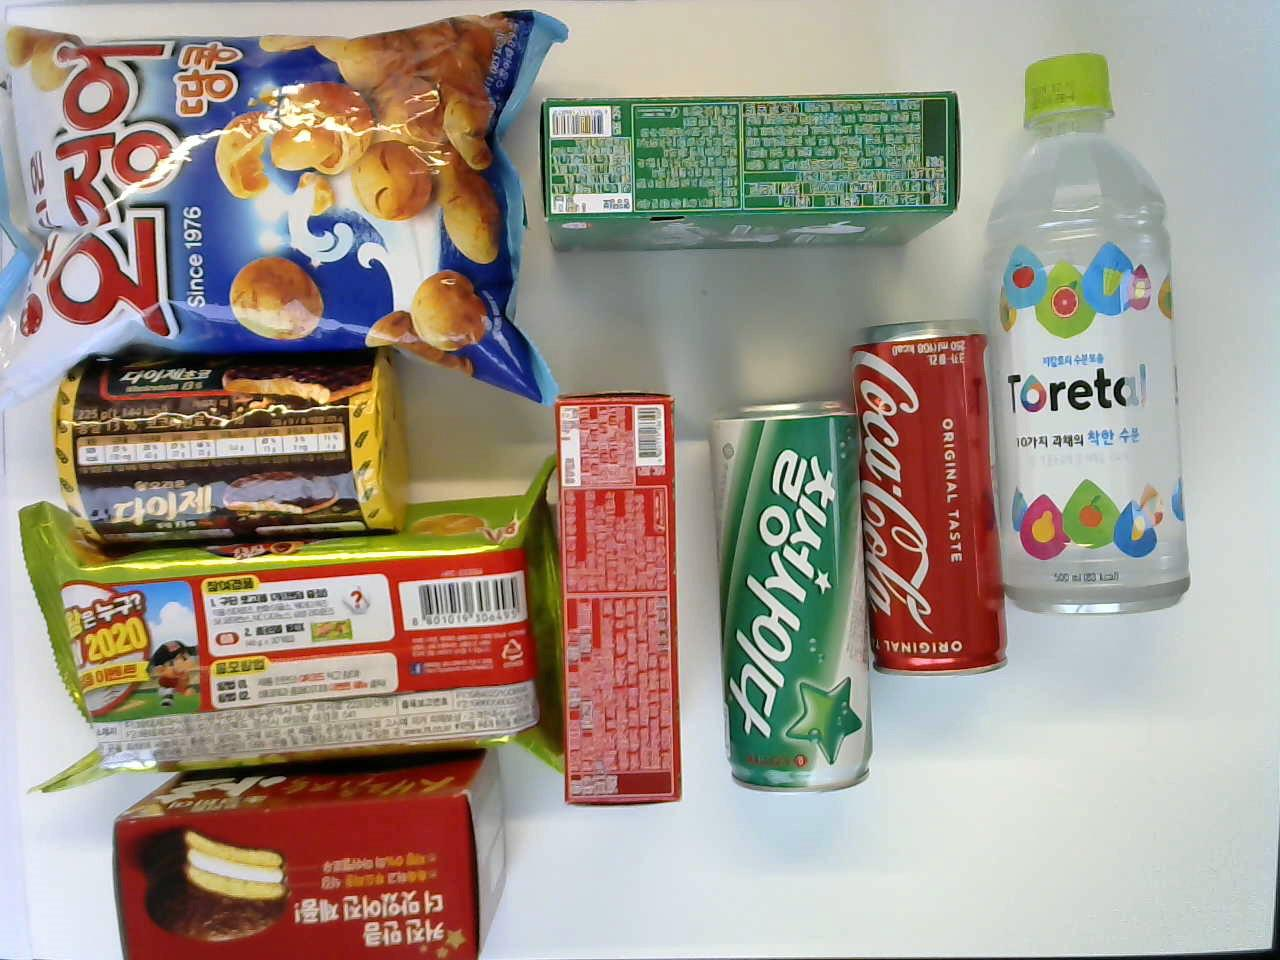chocopie: (113, 750, 506, 953)
cidar: (708, 398, 872, 797)
coke: (843, 315, 1012, 676), (557, 395, 676, 808)
couque_coffee: (539, 93, 963, 256)
diget_choco: (54, 355, 410, 527)
homerunball: (18, 504, 572, 785)
squid_peanut: (0, 10, 565, 397)
toreta: (991, 49, 1193, 633)
